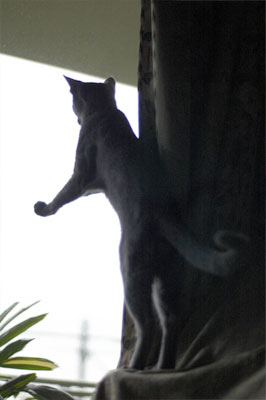cat: (33, 74, 256, 371)
